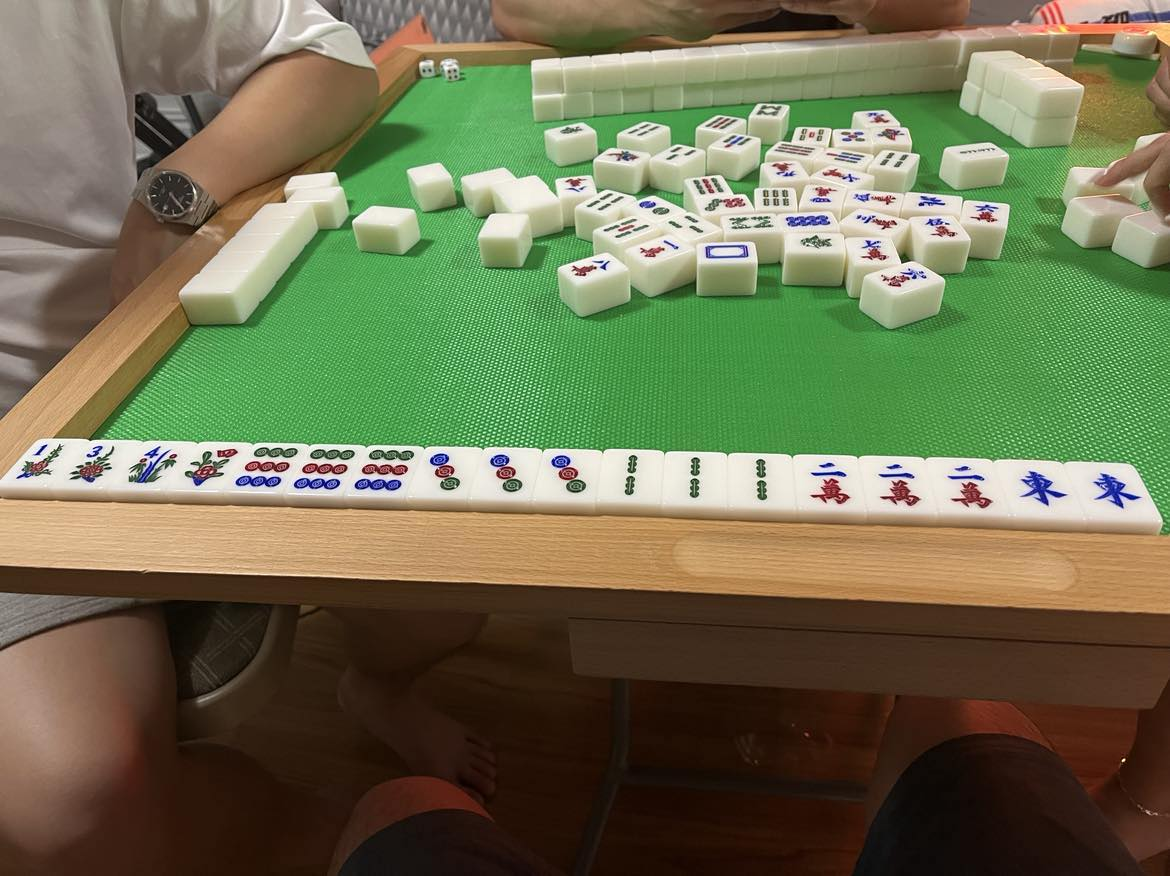bamboo-two: (739, 455, 784, 508), (609, 452, 655, 503), (674, 454, 714, 503)
character-two: (936, 462, 994, 514), (870, 460, 925, 510), (807, 457, 856, 510)
circle-nine: (235, 439, 295, 497), (354, 445, 415, 499), (296, 444, 353, 496)
circle-three: (481, 449, 534, 501), (545, 450, 592, 503), (424, 449, 470, 500)
honor-east_wind: (1080, 466, 1144, 520), (1015, 464, 1070, 515)
